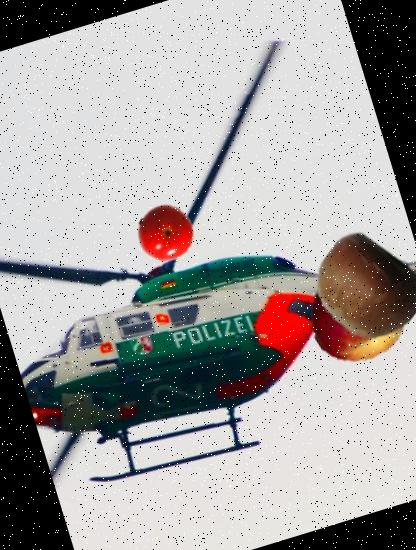Nectarine: (294, 245, 416, 374)
Nut: (300, 222, 416, 356)
Tomato: (131, 198, 202, 268)
